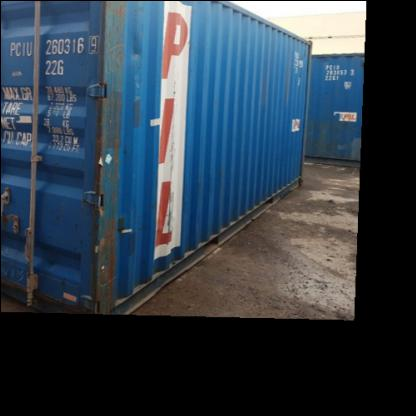Damage: (94, 2, 122, 308), (56, 224, 98, 248), (130, 25, 144, 59)
